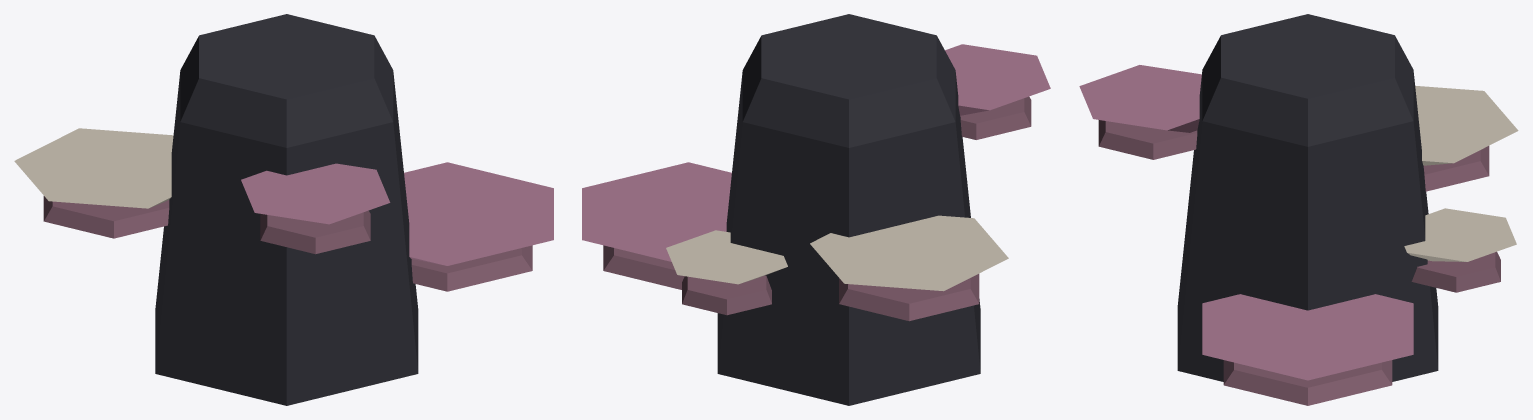
The model's file is fungus_shelf.glb.
3 renders of one model, left to right at view 1: azimuth 30°, elevation 25°; view 2: azimuth 150°, elevation 25°; view 3: azimuth 270°, elevation 25°, orthographic.
Visible parts, largest first — view 1: fungus_shelf; view 2: fungus_shelf; view 3: fungus_shelf.
Part boxes in pixels (left/top/right/bottom): fungus_shelf: left=14, top=14, right=553, bottom=405; fungus_shelf: left=582, top=14, right=1050, bottom=405; fungus_shelf: left=1079, top=14, right=1518, bottom=405.
Size of the model in its own units: 1.49 by 0.87 by 1.23.
